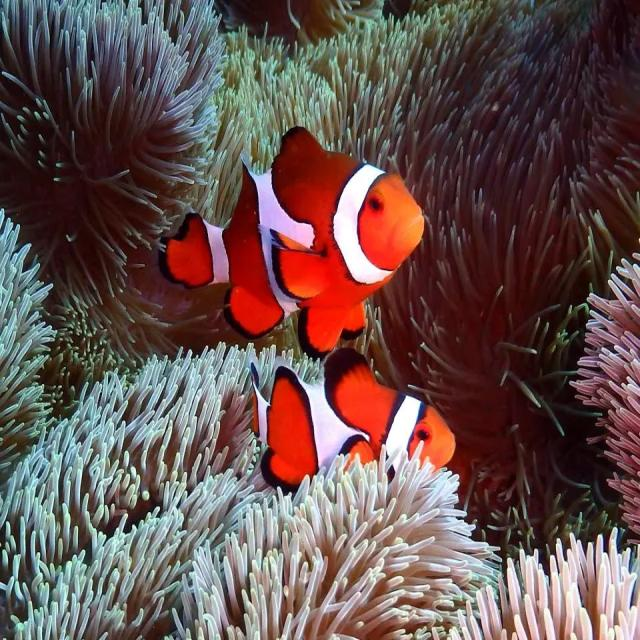ClownFish: (162, 126, 424, 350), (246, 341, 460, 489)
